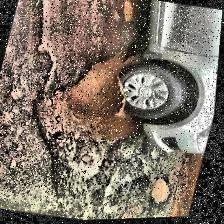pothole: (47, 43, 164, 153), (148, 178, 178, 209), (119, 0, 142, 26)
